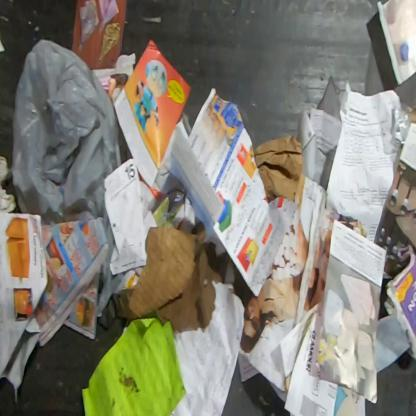cardboard: (96, 221, 231, 333), (382, 243, 415, 364), (254, 134, 305, 207)
soft_plastic: (10, 37, 126, 318), (392, 100, 414, 146)
